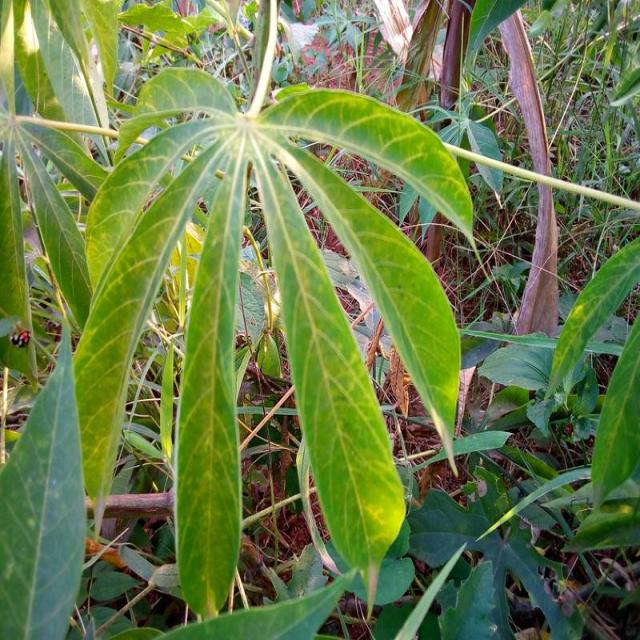cassava leaf: (68, 13, 475, 622), (250, 133, 408, 600), (173, 165, 246, 619), (0, 316, 86, 638)
